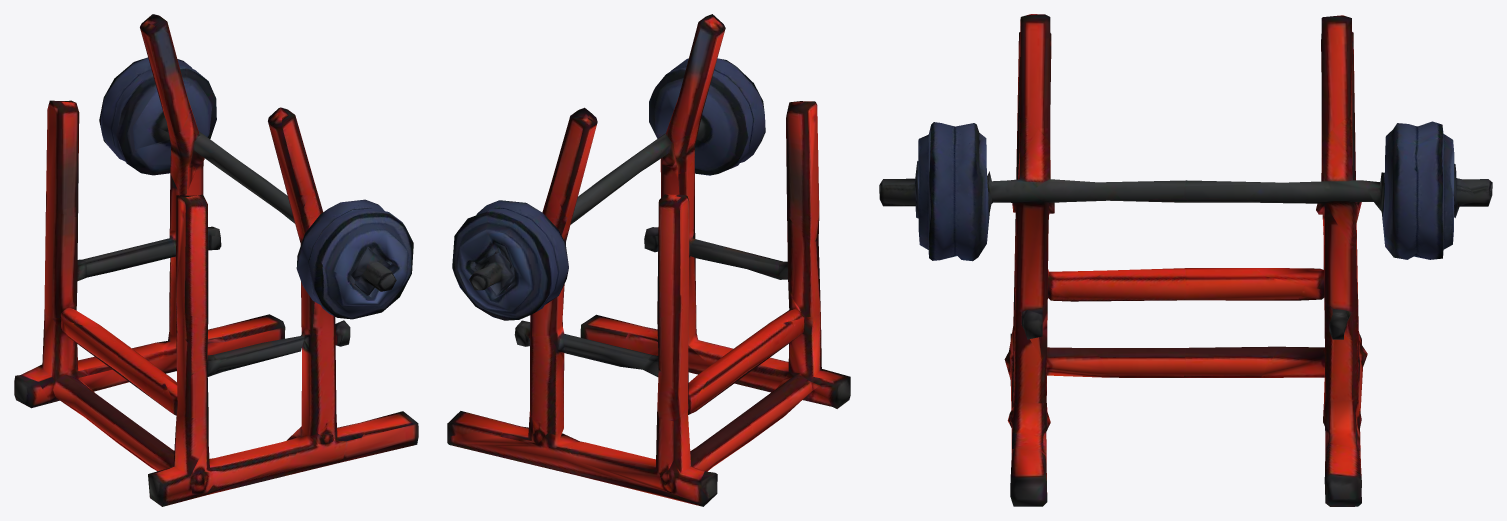
The model's file is squat-rack.glb.
3 views of the same model, side by side, from view 1: azimuth 30°, elevation 25°; view 2: azimuth 150°, elevation 25°; view 3: azimuth 270°, elevation 25° (orthographic). The views are drawn at different scales.
Parts seen in each view (by area): view 1: tripo_node_ce8cd1c8-dbb4-4737-8277-9ef3d8678fc3; view 2: tripo_node_ce8cd1c8-dbb4-4737-8277-9ef3d8678fc3; view 3: tripo_node_ce8cd1c8-dbb4-4737-8277-9ef3d8678fc3.
Part boxes in pixels (x1,y1,x2,y2): tripo_node_ce8cd1c8-dbb4-4737-8277-9ef3d8678fc3: (14, 14, 418, 506); tripo_node_ce8cd1c8-dbb4-4737-8277-9ef3d8678fc3: (447, 14, 850, 506); tripo_node_ce8cd1c8-dbb4-4737-8277-9ef3d8678fc3: (879, 14, 1492, 506).
Size of the model in its own units: 0.5805 by 0.7585 by 0.9995.
1 material, 1 textured.
